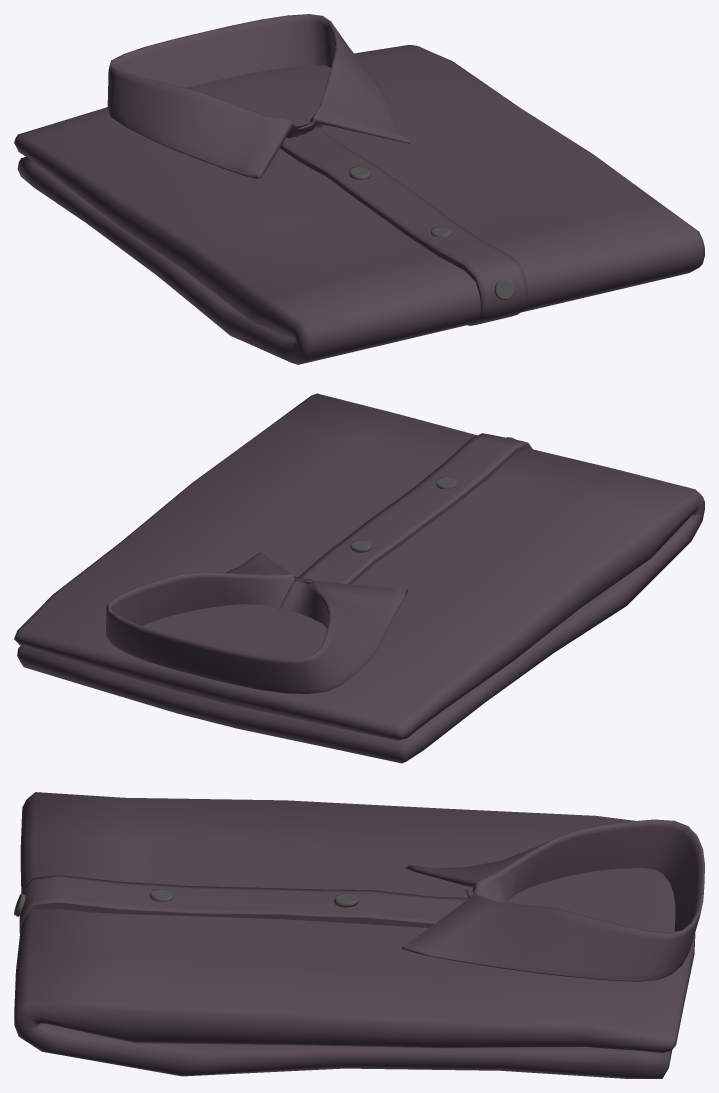
Rendered from Folded_Shirt21.fbx.
The picture shows the model from 3 angles, top to bottom: view 1: azimuth 30°, elevation 25°; view 2: azimuth 150°, elevation 25°; view 3: azimuth 270°, elevation 25°; orthographic projection. The views are drawn at different scales.
Visible parts, largest first — view 1: Folded_Shirt21; view 2: Folded_Shirt21; view 3: Folded_Shirt21.
Boxes of the visible parts, x1,y1,x2,y2 form: Folded_Shirt21: (14,14,704,364); Folded_Shirt21: (14,393,704,763); Folded_Shirt21: (14,792,704,1078).
Bounding box in the file's own units: 24.95 × 5.51 × 33.25.
